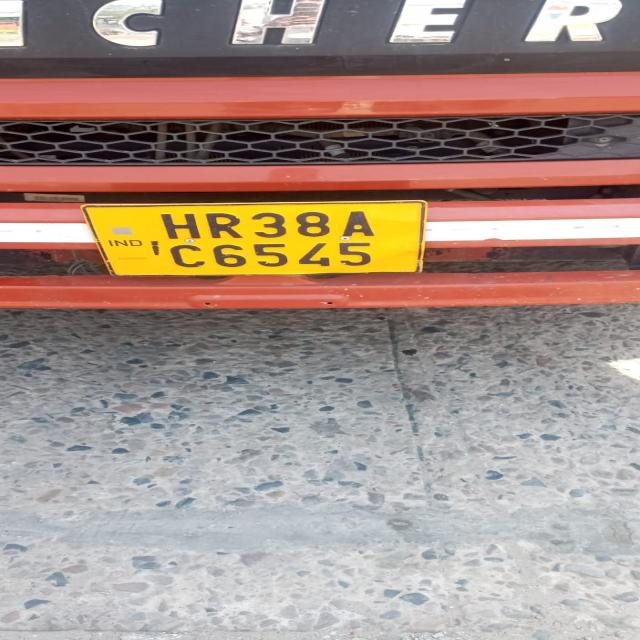License-plate: (102, 195, 449, 282)
